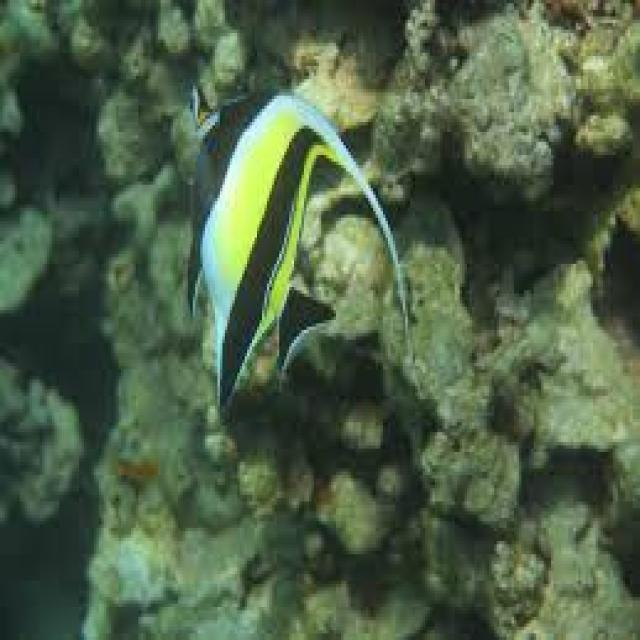MorishIdol: (180, 76, 420, 422)
